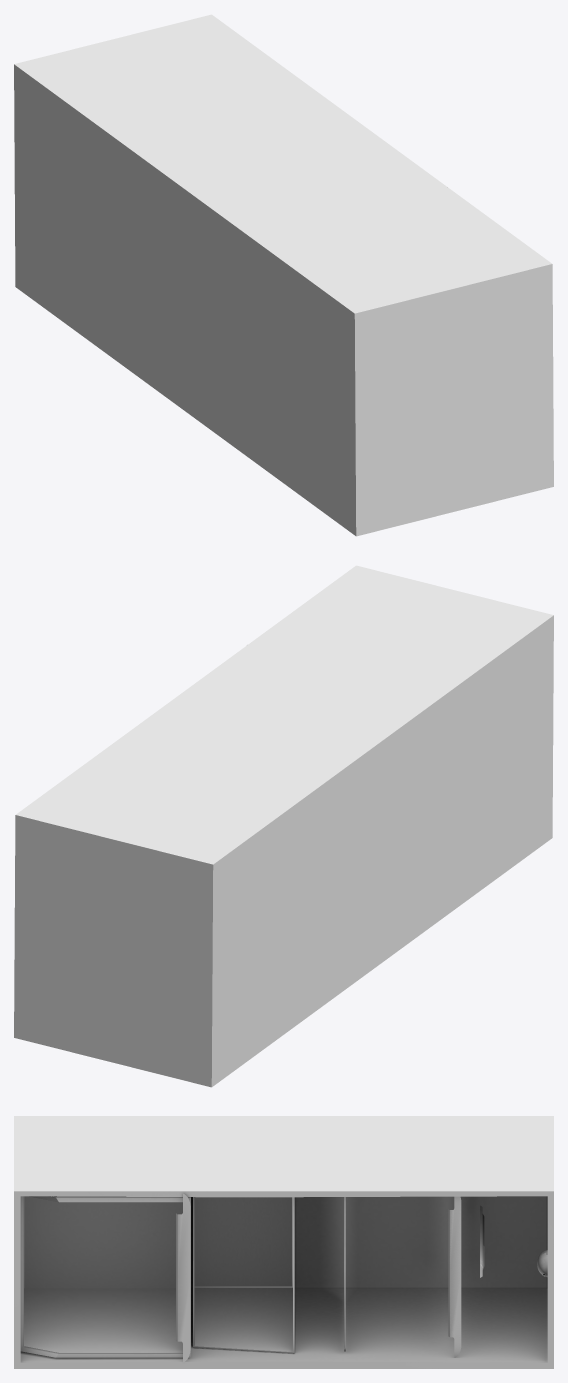
File: body.glb
3 renders of one model, top to bottom at view 1: azimuth 30°, elevation 25°; view 2: azimuth 150°, elevation 25°; view 3: azimuth 270°, elevation 25°, orthographic. The views are drawn at different scales.
Parts seen in each view (by area): view 1: frl_apartment_refrigerator; view 2: frl_apartment_refrigerator; view 3: frl_apartment_refrigerator.
Part boxes in pixels (left/top/right/bottom): frl_apartment_refrigerator: left=14, top=14, right=553, bottom=536; frl_apartment_refrigerator: left=14, top=565, right=553, bottom=1087; frl_apartment_refrigerator: left=14, top=1116, right=553, bottom=1368.
Size of the model in its own units: 0.6497 by 0.6973 by 1.92.
Materials: 1 (1 with a texture image).
